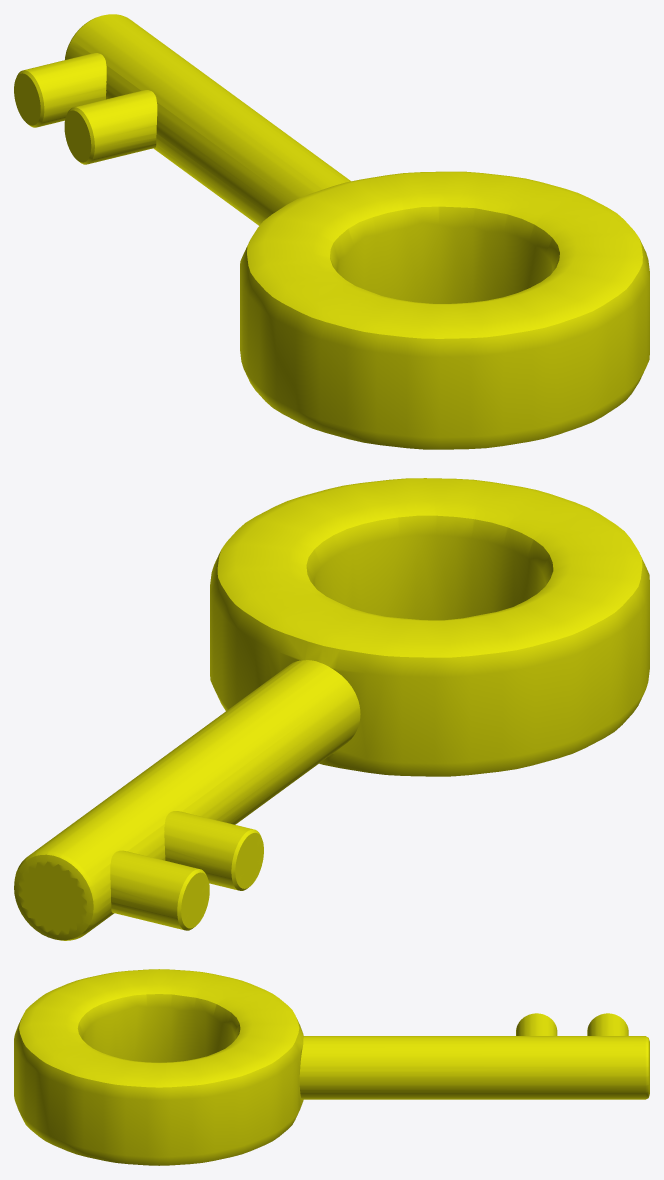
Rendered from llave.fbx.
3 views of the same model, one above another, from view 1: azimuth 30°, elevation 25°; view 2: azimuth 150°, elevation 25°; view 3: azimuth 270°, elevation 25° (orthographic). The views are drawn at different scales.
Parts seen in each view (by area): view 1: pCylinder23; view 2: pCylinder23; view 3: pCylinder23.
Boxes of the visible parts, x1=… form: pCylinder23: x1=14, y1=14, x2=649, y2=449; pCylinder23: x1=14, y1=478, x2=649, y2=940; pCylinder23: x1=14, y1=969, x2=649, y2=1165.
Size of the model in its own units: 1.07 by 0.3552 by 2.35.
